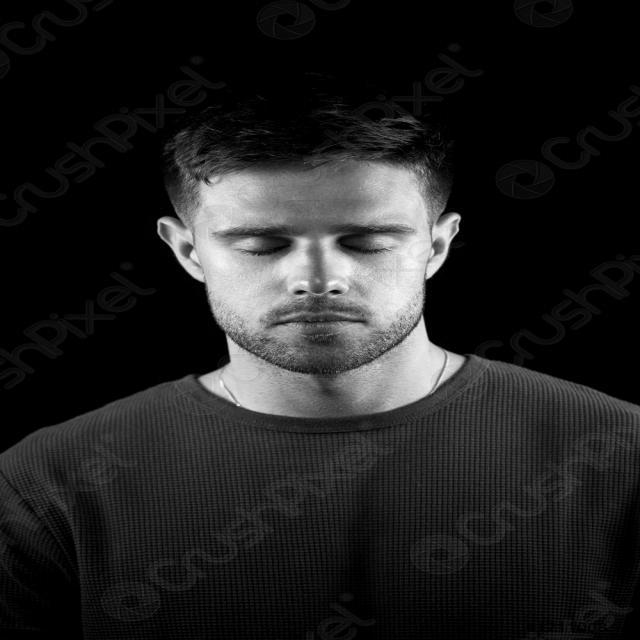real: (158, 137, 463, 374), (213, 216, 424, 268)
